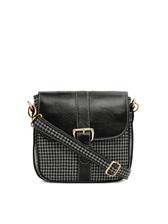bag: (25, 86, 142, 186)
